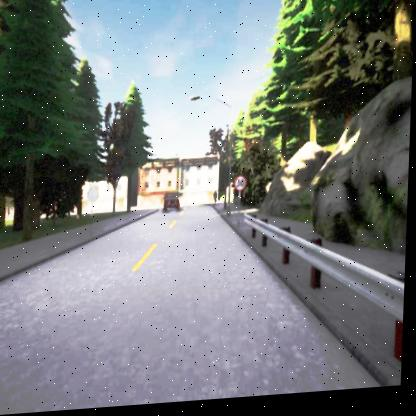vehicle: (164, 196, 182, 216)
